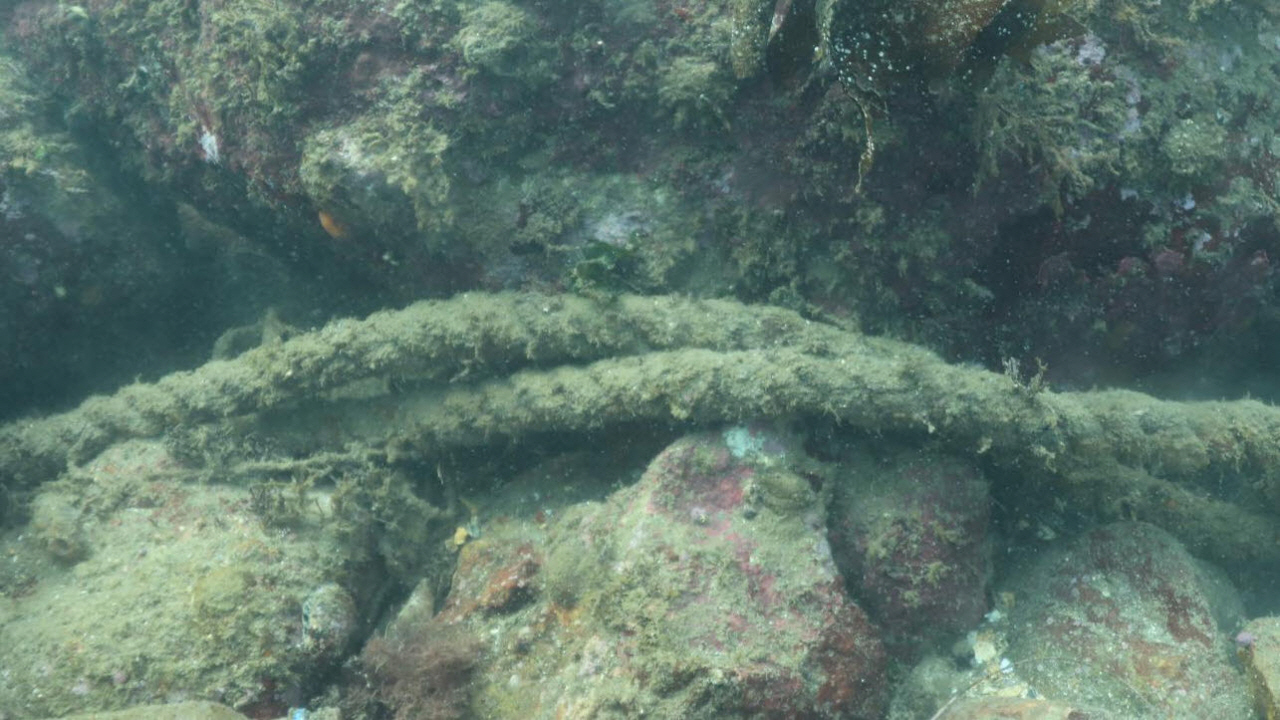bundle of ropes: (0, 281, 1279, 561)
